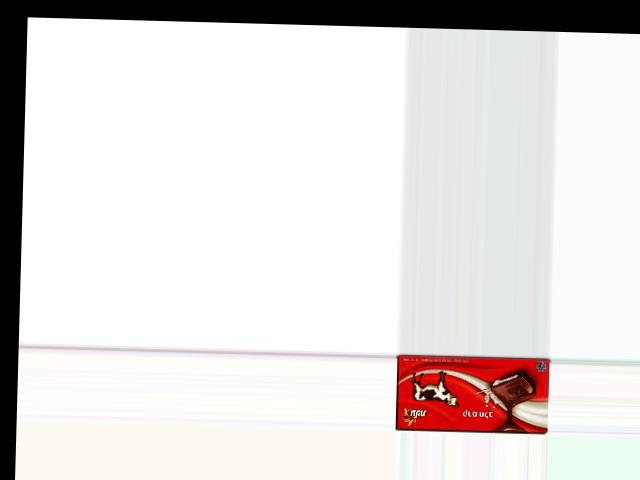chocolate: (392, 353, 549, 434)
